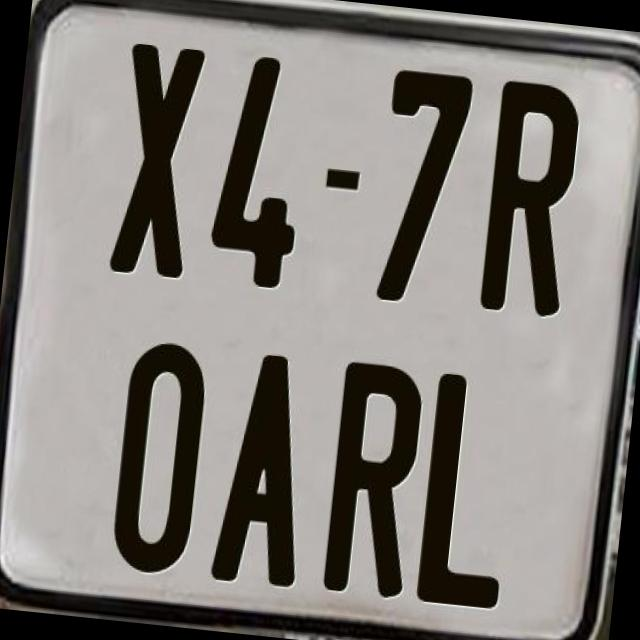0: (107, 336, 214, 582)
4: (202, 53, 310, 294)
7: (367, 65, 478, 308)
A: (208, 350, 322, 594)
L: (412, 368, 523, 614)
R: (320, 360, 428, 598), (479, 76, 582, 316)
X: (107, 42, 205, 278)
